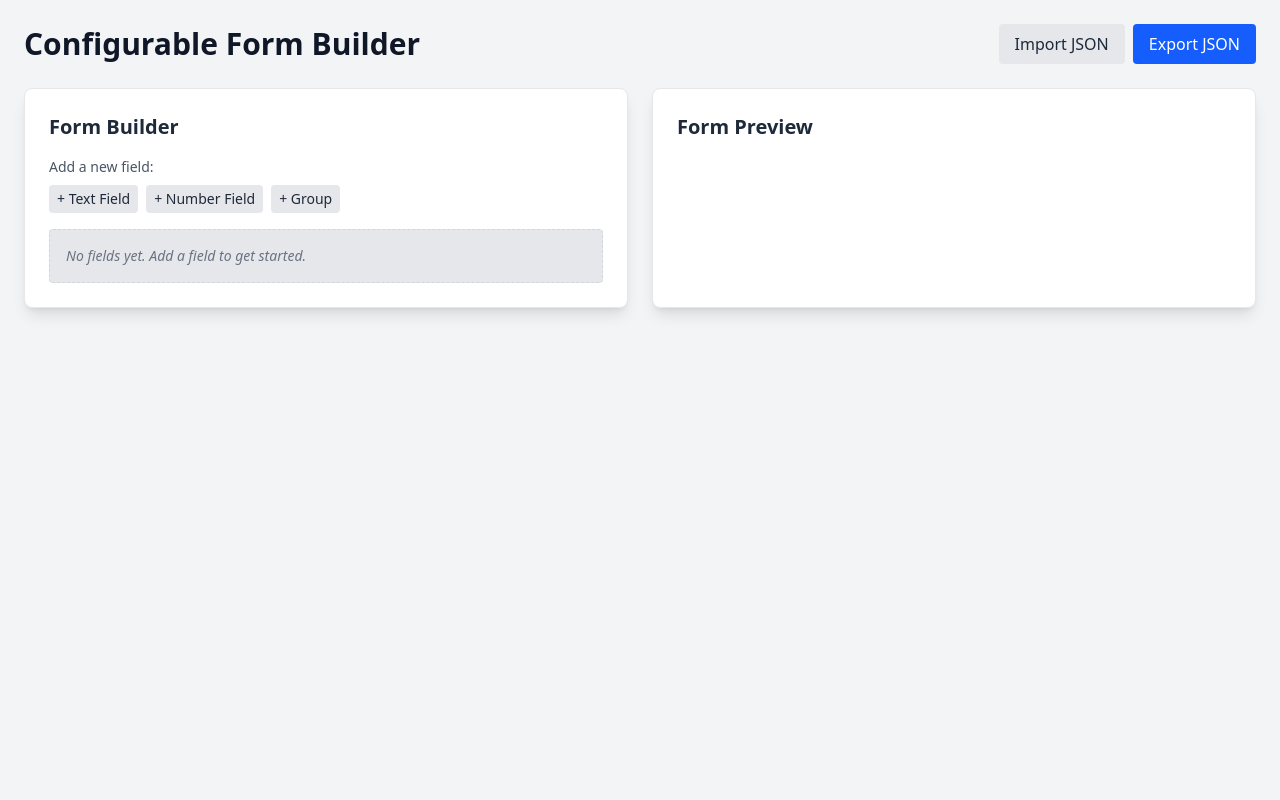
Test: ConfigurableFormBuilder › export functionality › closes export modal when close button is clicked
Click the button "Export JSON" at (1194, 44), box x1=1133 y1=24 x2=1256 y2=64
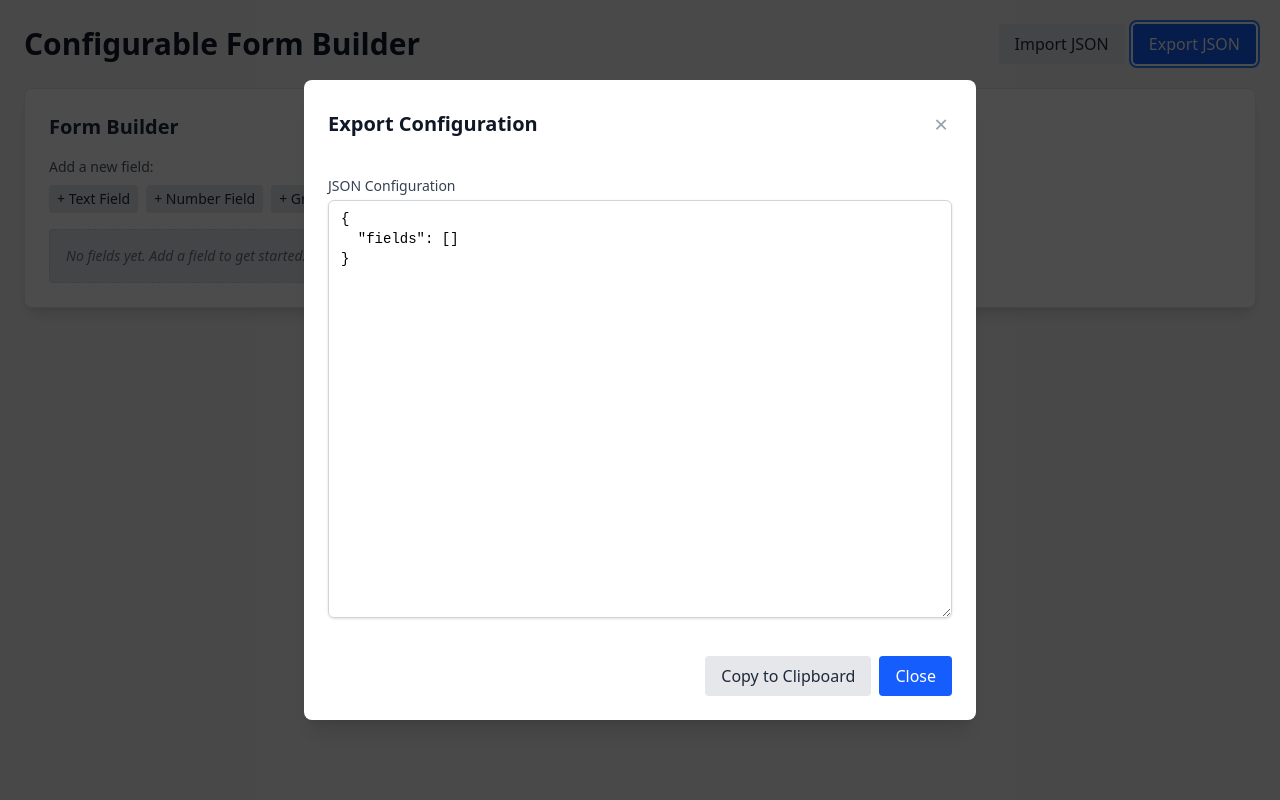
Expected: the dialog is shown, x1=304 y1=80 x2=976 y2=720
Expected: the button "Close" is shown
Click the button "Close" at (916, 676), box x1=879 y1=656 x2=952 y2=696
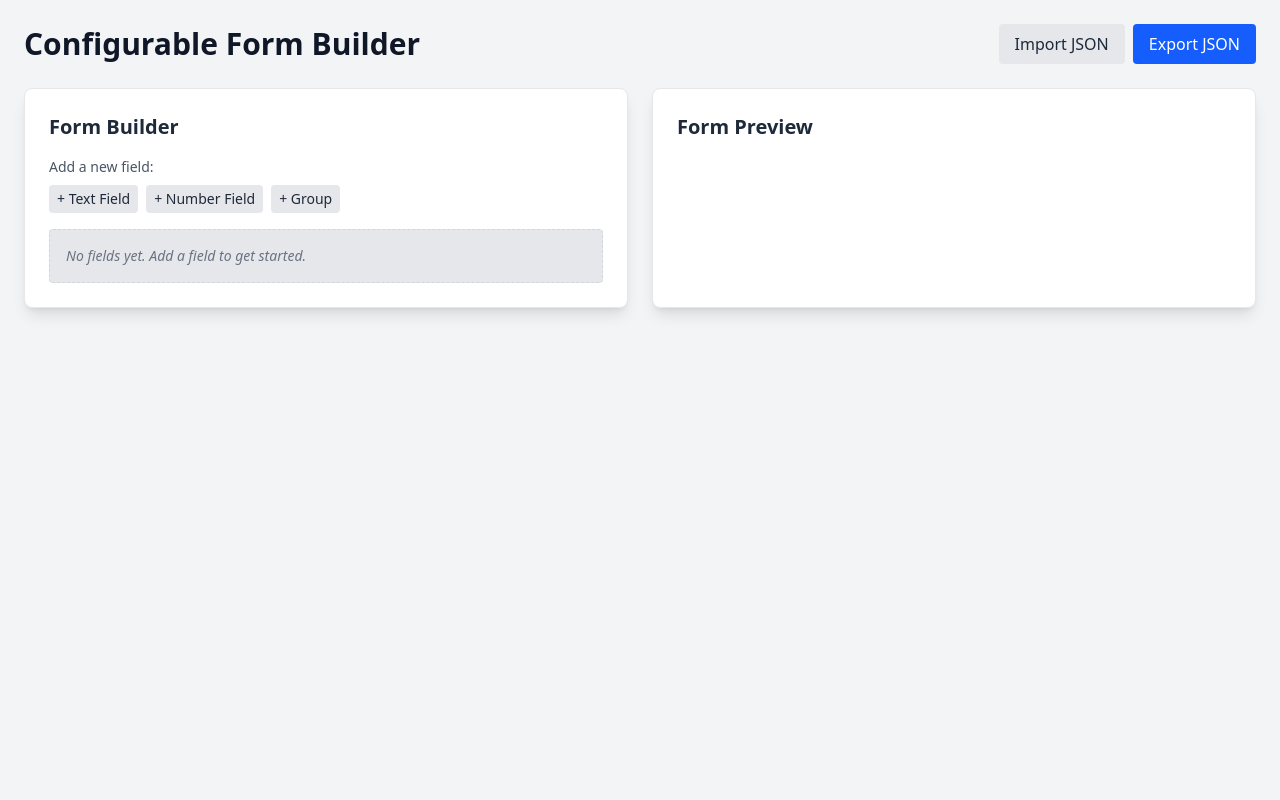
Expected: the dialog is gone
